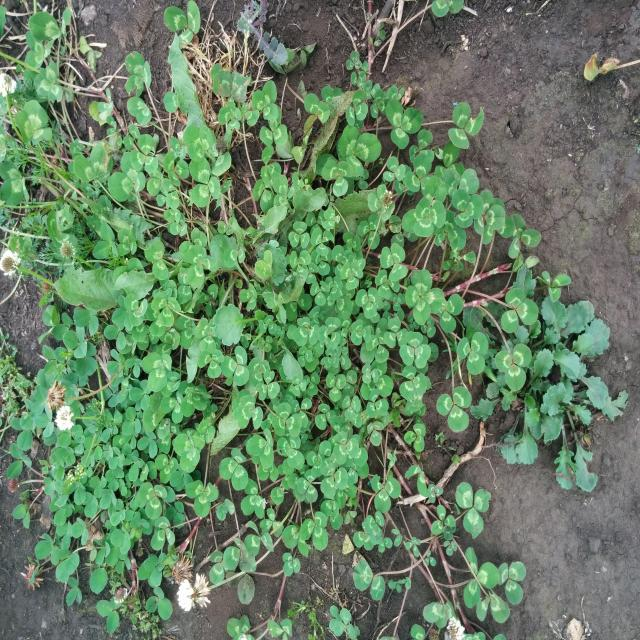Four Leaf Clover: (405, 269, 447, 325)
